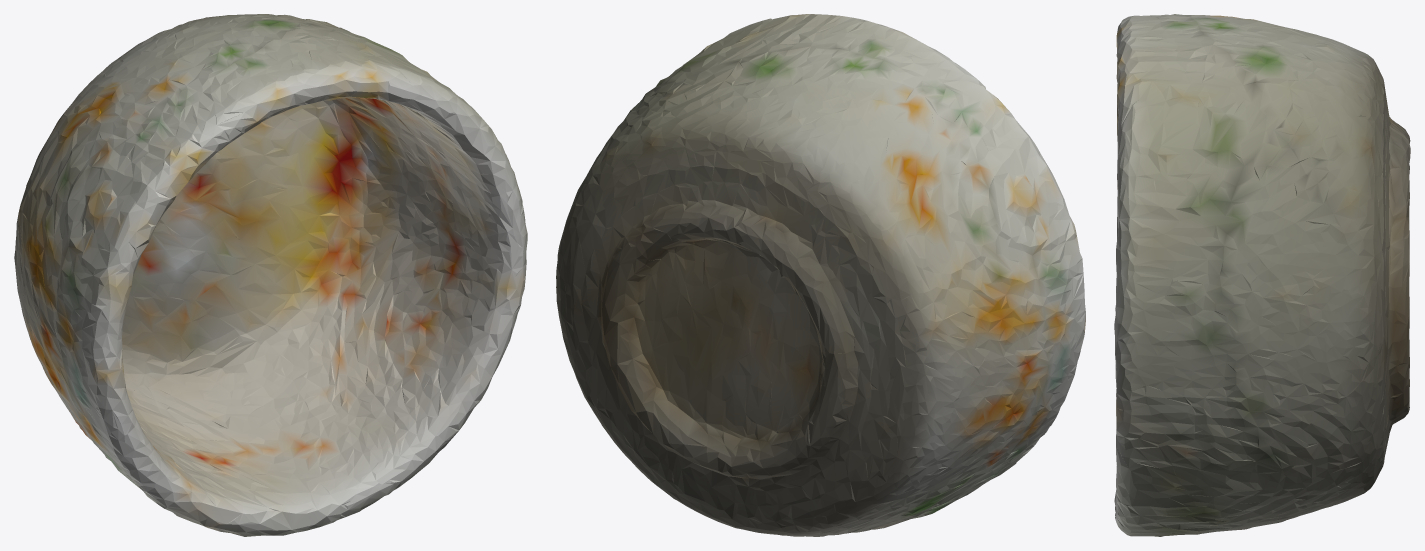
File: bowl_2.glb
The picture shows the model from 3 angles, left to right: view 1: azimuth 30°, elevation 25°; view 2: azimuth 150°, elevation 25°; view 3: azimuth 270°, elevation 25°; orthographic projection. The views are drawn at different scales.
Parts seen in each view (by area): view 1: geometry_0; view 2: geometry_0; view 3: geometry_0.
Boxes of the visible parts, x1,y1,x2,y2 form: geometry_0: (14,14,527,536); geometry_0: (556,14,1085,536); geometry_0: (1114,14,1410,536).
Size of the model in its own units: 0.995 by 1 by 0.5668.
